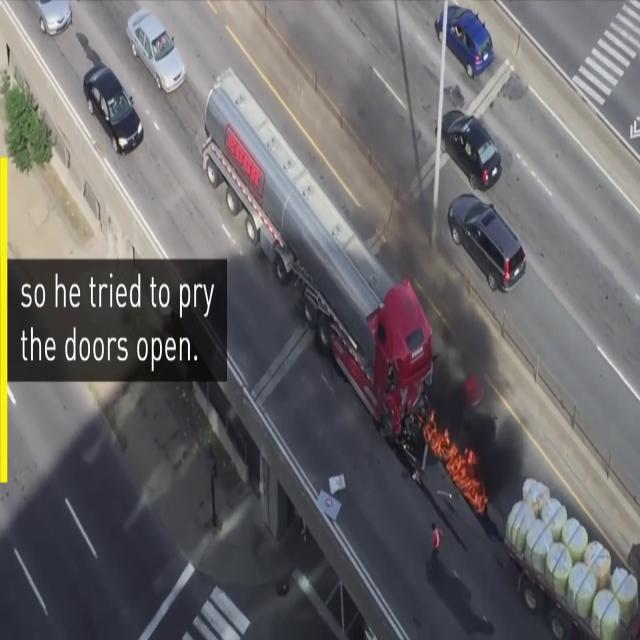Fire: (426, 408, 480, 511)
Smoke: (329, 52, 477, 382)
